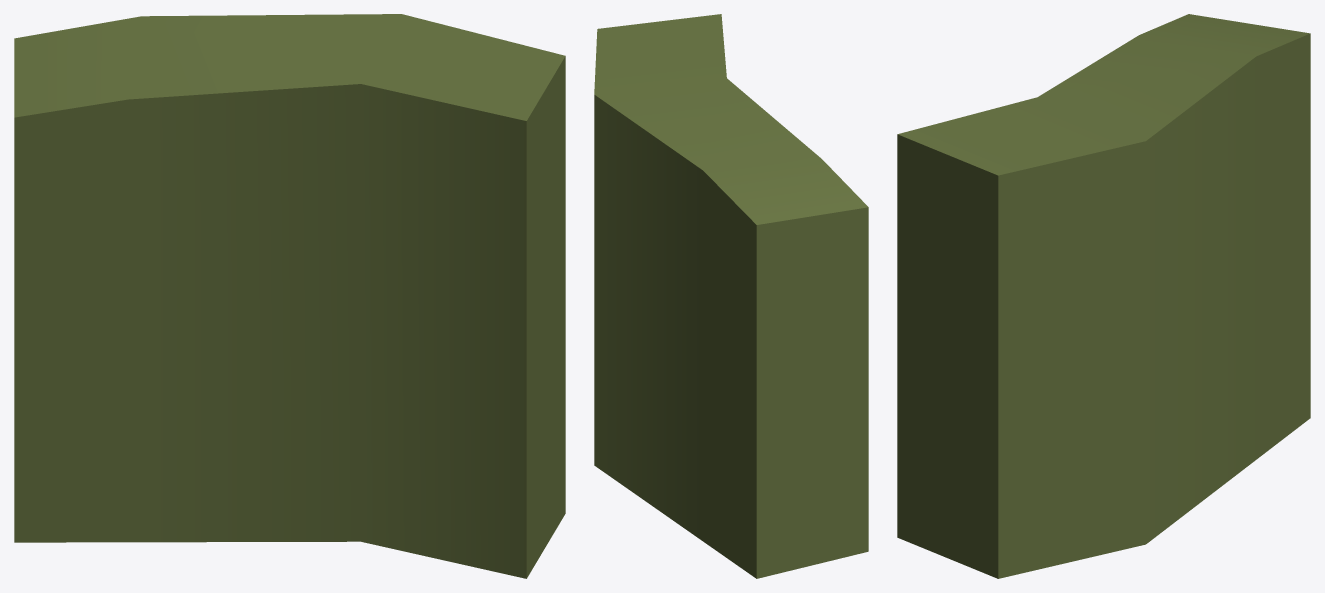
The model's file is ground_24.fbx.
The picture shows the model from 3 angles, left to right: view 1: azimuth 30°, elevation 25°; view 2: azimuth 150°, elevation 25°; view 3: azimuth 270°, elevation 25°; orthographic projection. The views are drawn at different scales.
Parts seen in each view (by area): view 1: ground_24; view 2: ground_24; view 3: ground_24.
Part boxes in pixels (left/top/right/bottom): ground_24: left=14, top=14, right=565, bottom=578; ground_24: left=594, top=14, right=868, bottom=578; ground_24: left=897, top=14, right=1310, bottom=578.
Size of the model in its own units: 6.51 by 6.43 by 5.97.
